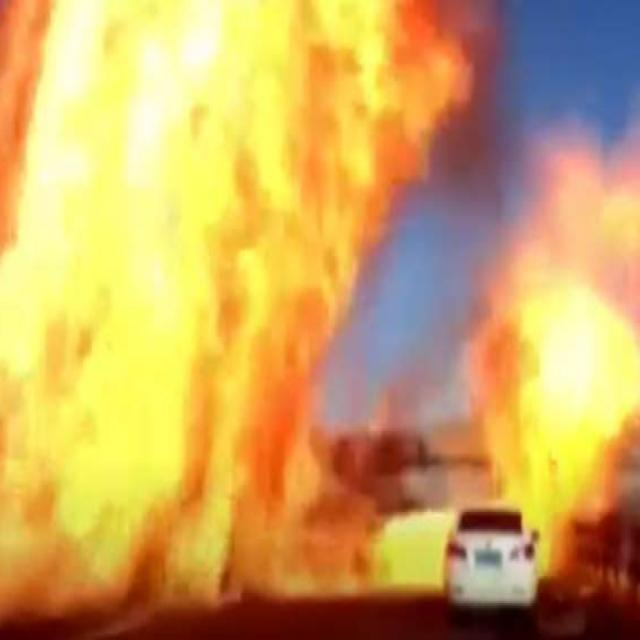car: (447, 507, 542, 640)
fire: (1, 0, 437, 604), (467, 159, 640, 504)
